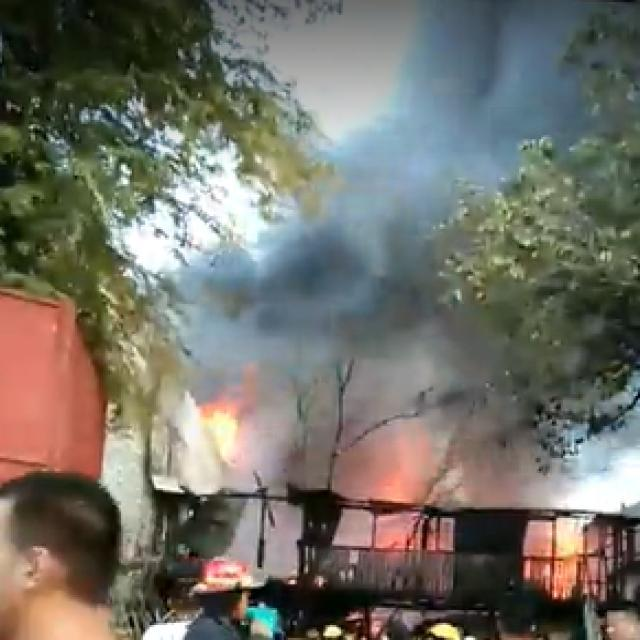Fire: (369, 435, 452, 555), (206, 398, 268, 471), (534, 528, 584, 581)
Smoke: (182, 264, 509, 392), (420, 0, 576, 128), (300, 142, 430, 288)
